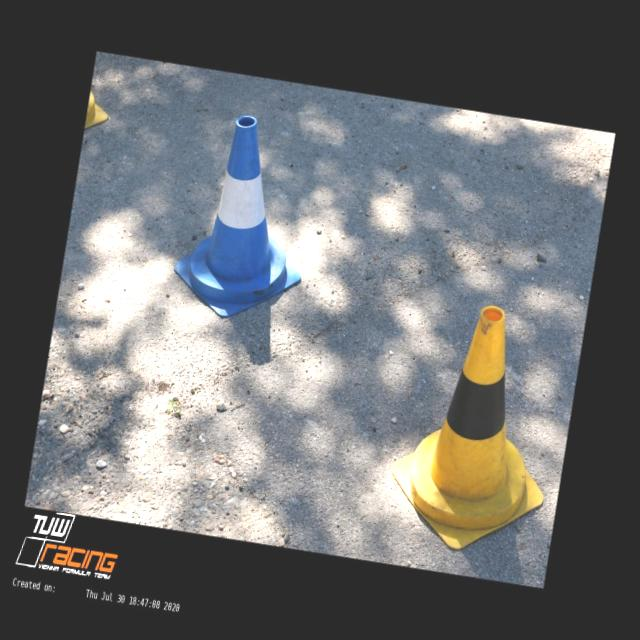blue_cone: (168, 110, 326, 328)
yellow_cone: (381, 294, 572, 562)
